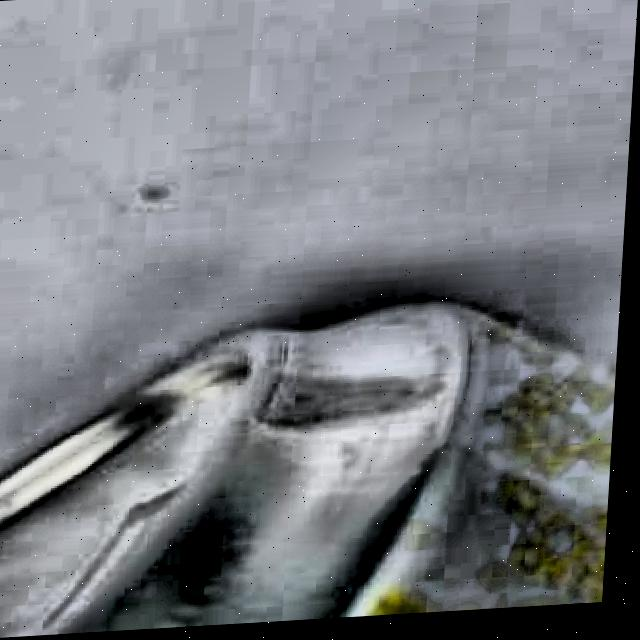metal: (0, 296, 625, 640)
